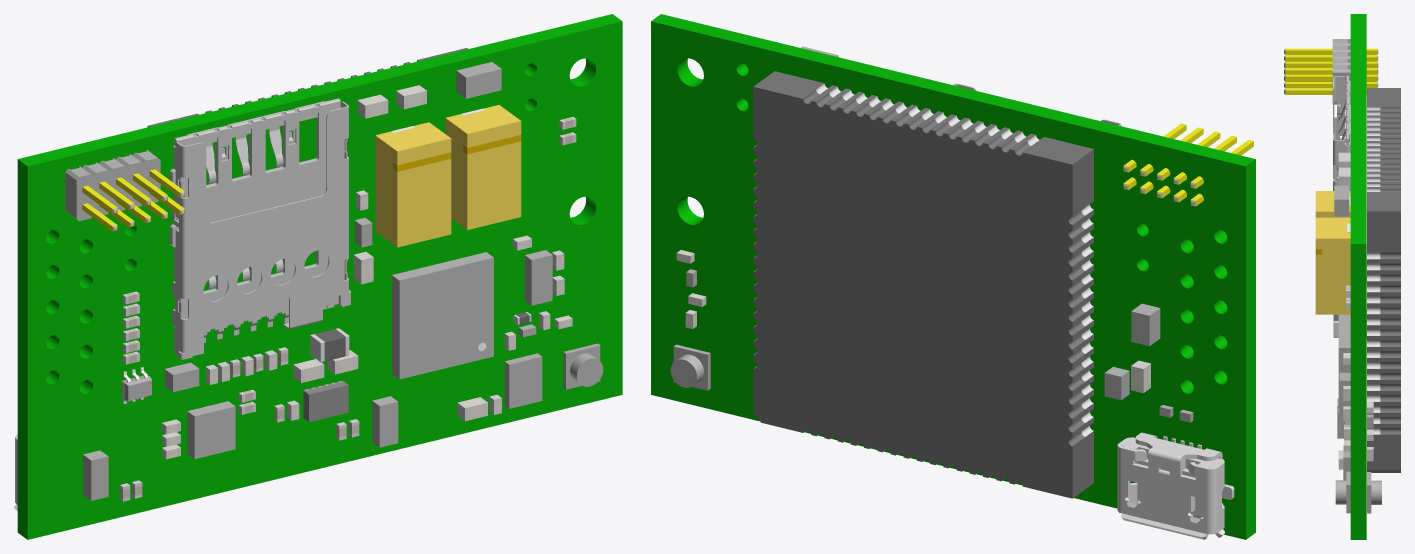
File: pcb.glb
The picture shows the model from 3 angles, left to right: view 1: azimuth 30°, elevation 25°; view 2: azimuth 150°, elevation 25°; view 3: azimuth 270°, elevation 25°; orthographic projection. The views are drawn at different scales.
Parts seen in each view (by area): view 1: pcb, simCardHolder, Body1 (×12), cc2640r2f, mpu-6500; view 2: sim7000e, pcb, usb, Body1 (×5); view 3: sim7000e, Body1 (×10), pcb, simCardHolder, cc2640r2f.
Boxes of the visible parts, box(x1,y1,x2,y2) form: pcb: box(17, 14, 622, 539); simCardHolder: box(169, 98, 350, 359); Body1 (×12): box(65, 62, 603, 500); cc2640r2f: box(392, 252, 493, 379); mpu-6500: box(187, 401, 235, 459); sim7000e: box(753, 71, 1093, 498); pcb: box(651, 14, 1255, 539); usb: box(1117, 432, 1234, 539); Body1 (×5): box(670, 123, 1253, 400); sim7000e: box(1367, 88, 1400, 472); Body1 (×10): box(1284, 39, 1381, 513); pcb: box(1350, 14, 1366, 539); simCardHolder: box(1333, 75, 1350, 190); cc2640r2f: box(1338, 314, 1350, 426).
Size of the model in its own units: 0.045 by 0.027 by 0.00965.
